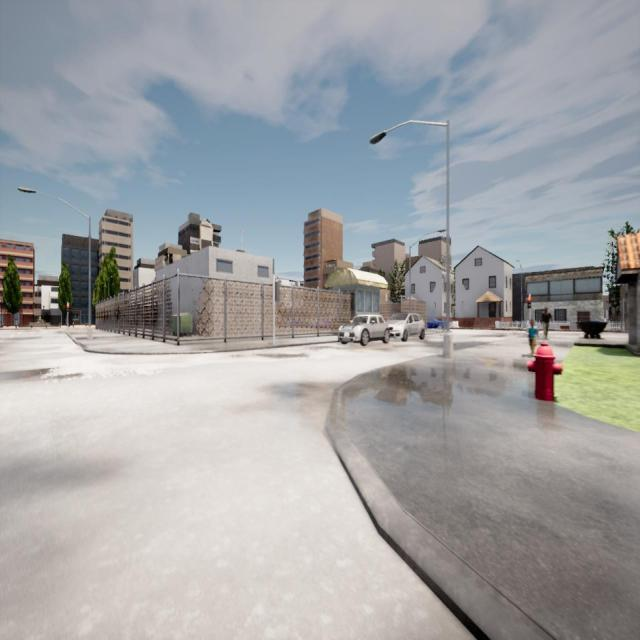Pedestrian: (540, 307, 552, 340), (529, 319, 536, 356)
Vehicle: (338, 314, 389, 346), (389, 312, 425, 341), (426, 317, 448, 328)
traffic_light: (275, 281, 280, 301), (528, 297, 532, 308), (66, 303, 70, 311)
